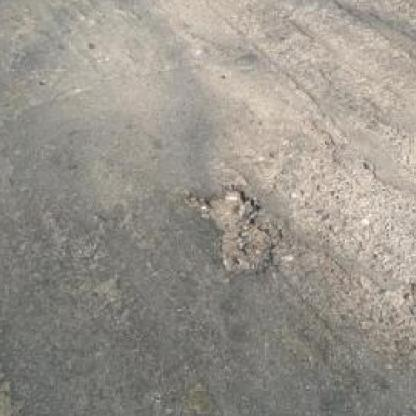pothole: (180, 182, 279, 275)
